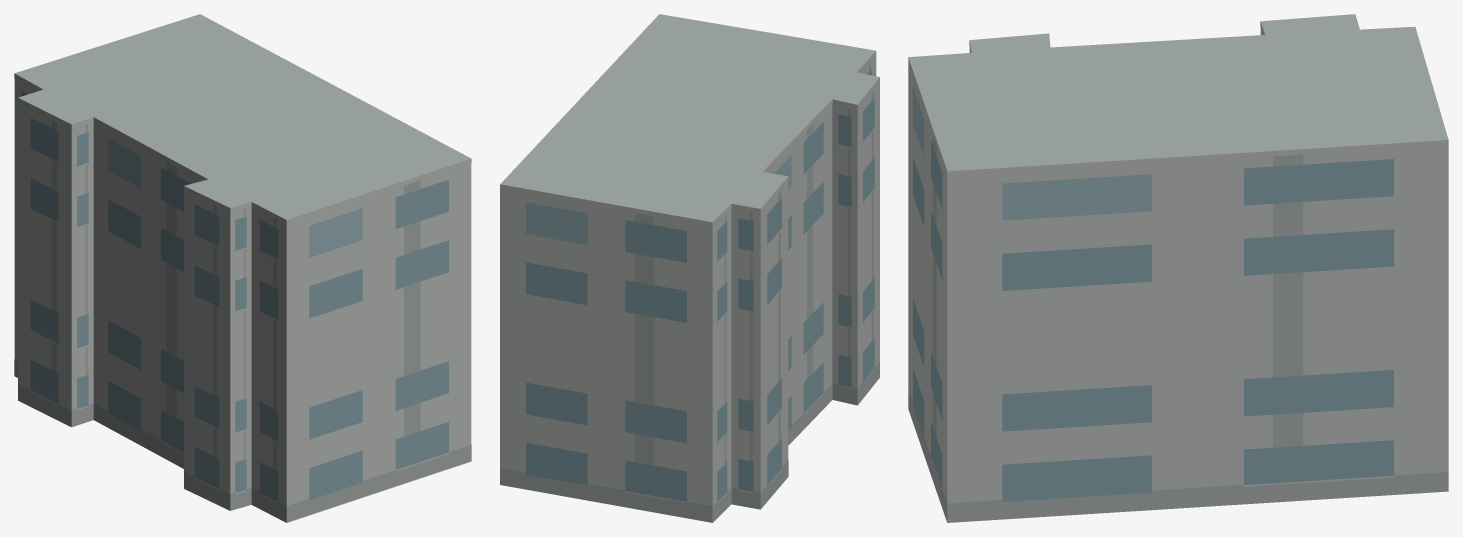
Rendered from survey-upis-32576983.glb.
The picture shows the model from 3 angles, left to right: view 1: azimuth 30°, elevation 25°; view 2: azimuth 150°, elevation 25°; view 3: azimuth 270°, elevation 25°; orthographic projection. The views are drawn at different scales.
Visible parts, largest first — view 1: survey-upis-32576983.tmp; view 2: survey-upis-32576983.tmp; view 3: survey-upis-32576983.tmp.
Part boxes in pixels (box(x1,y1,x2,y2)): survey-upis-32576983.tmp: box(14, 14, 471, 522); survey-upis-32576983.tmp: box(500, 14, 879, 522); survey-upis-32576983.tmp: box(908, 14, 1448, 522).
Size of the model in its own units: 14.6 by 15.2 by 21.18.
